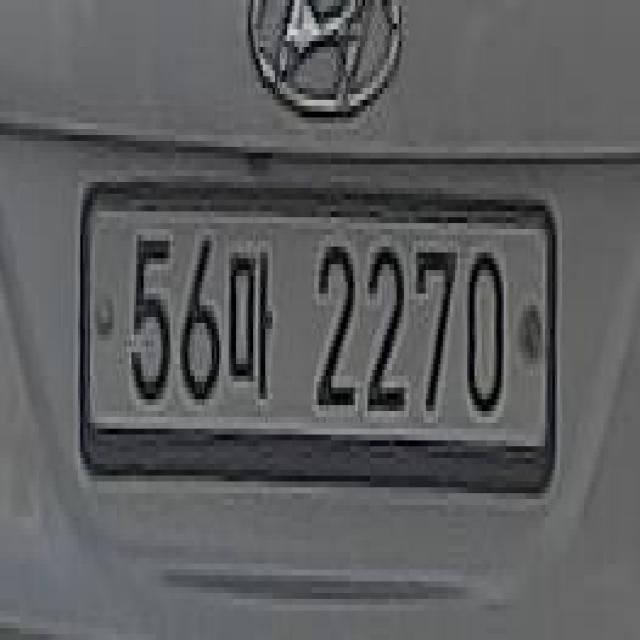illegal_plate: (80, 172, 556, 510)
